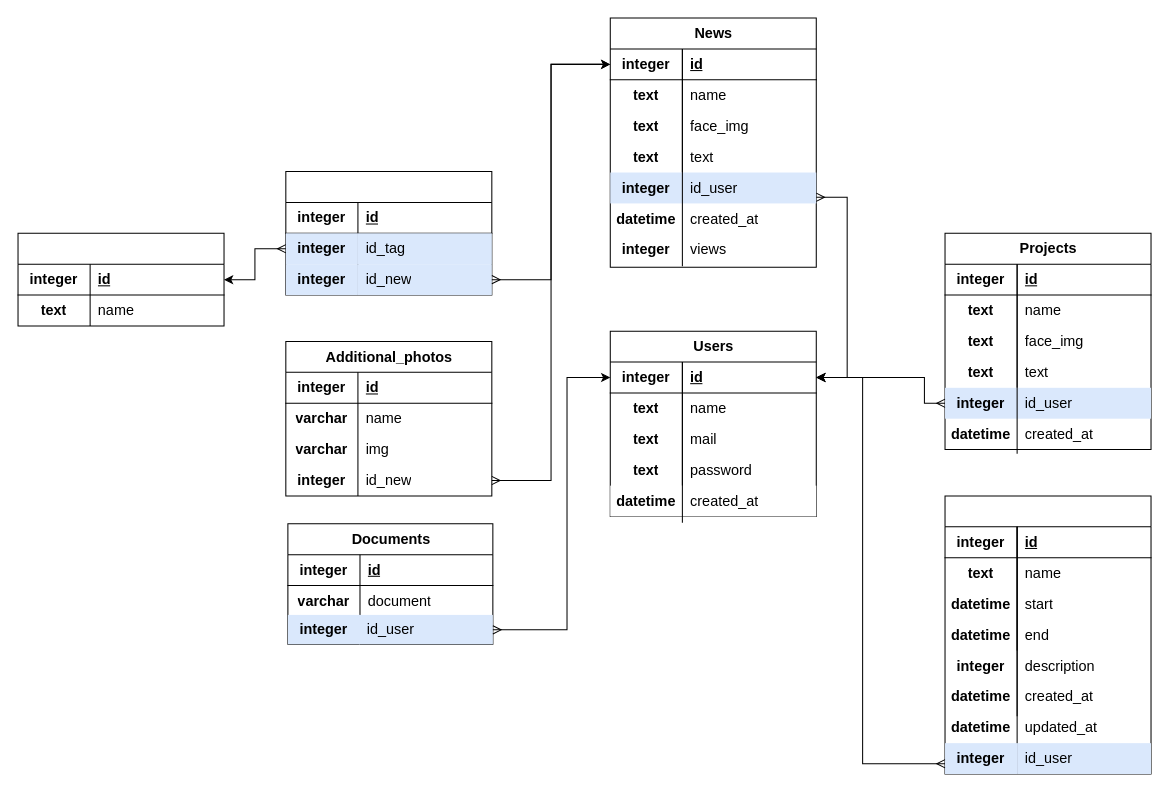
Some shapes in this 1169 by 793 pixel diagram are drawn without their labels. The shapes that lost their labels are listed below. From the top down, each one's box as (x1, y1, x2, y2) in pixels, then its label:
(285, 170, 492, 295): New_Tag
(17, 232, 224, 326): Tags
(944, 495, 1151, 774): Events
